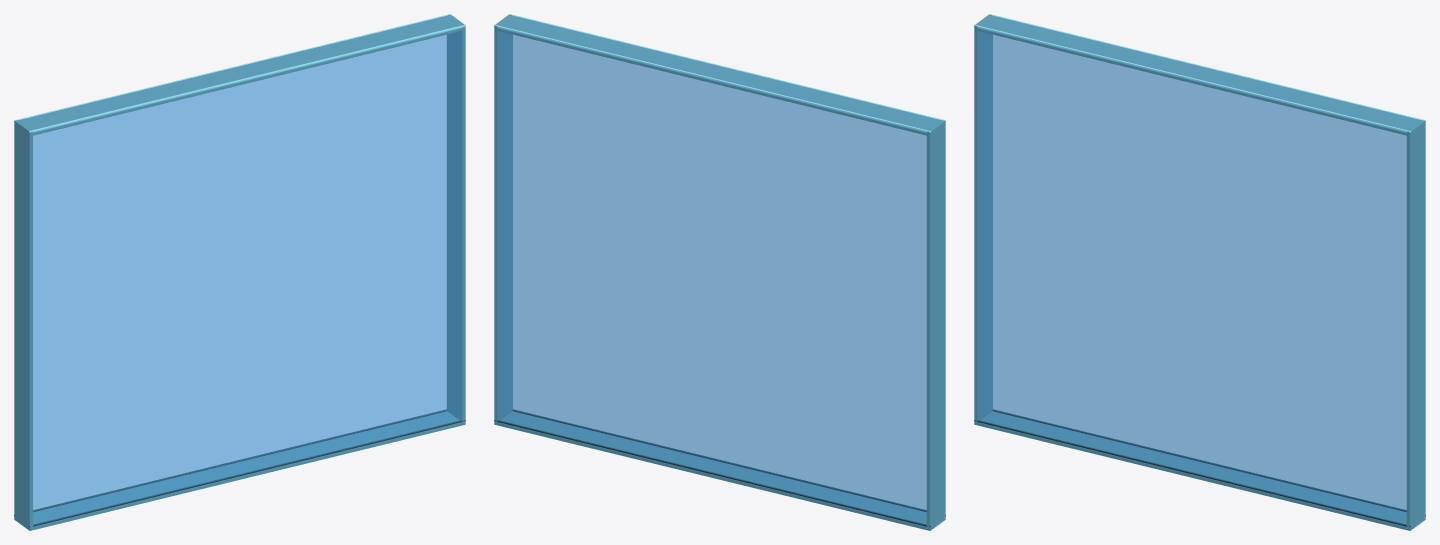
The model's file is SM_VR_Wall_TransferBack.fbx.
3 views of the same model, side by side, from view 1: azimuth 30°, elevation 25°; view 2: azimuth 150°, elevation 25°; view 3: azimuth 330°, elevation 25° (orthographic).
Visible parts, largest first — view 1: SM_VR_Wall_TransferBack; view 2: SM_VR_Wall_TransferBack; view 3: SM_VR_Wall_TransferBack.
Part boxes in pixels (left/top/right/bottom): SM_VR_Wall_TransferBack: left=14, top=14, right=465, bottom=530; SM_VR_Wall_TransferBack: left=494, top=14, right=945, bottom=530; SM_VR_Wall_TransferBack: left=974, top=14, right=1425, bottom=530.
Bounding box in the file's own units: 320 × 20 × 280.
